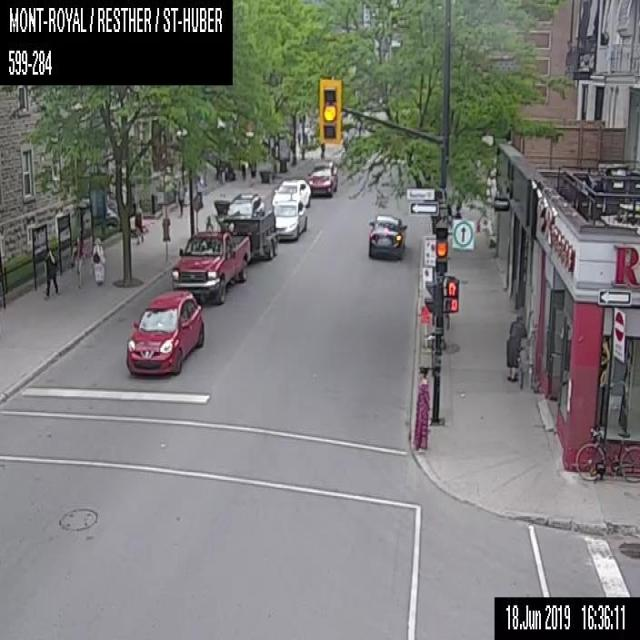pedestrian: (505, 314, 526, 389), (412, 364, 430, 450), (42, 245, 58, 298), (71, 234, 86, 288), (91, 236, 105, 285), (134, 206, 143, 243), (177, 180, 184, 214), (205, 215, 212, 229)
vehicle: (171, 212, 275, 302), (125, 291, 204, 375), (368, 214, 406, 258), (270, 198, 307, 240), (213, 192, 264, 222), (271, 178, 310, 209), (306, 164, 337, 196)
